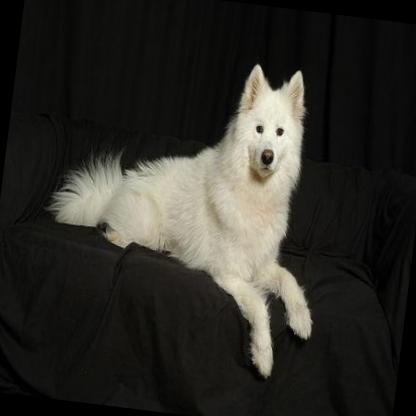Samoyed: (30, 37, 344, 385)
